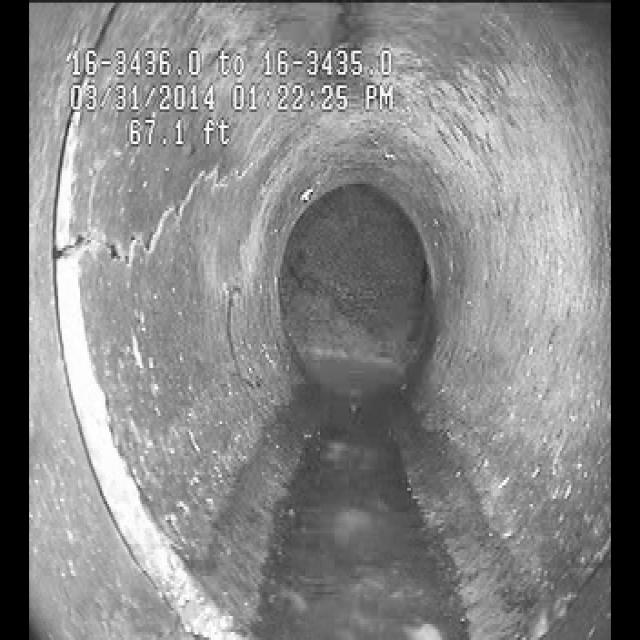Crack: (57, 178, 217, 288)
